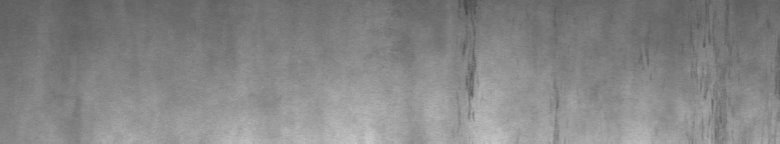ka: (640, 36, 728, 136)
